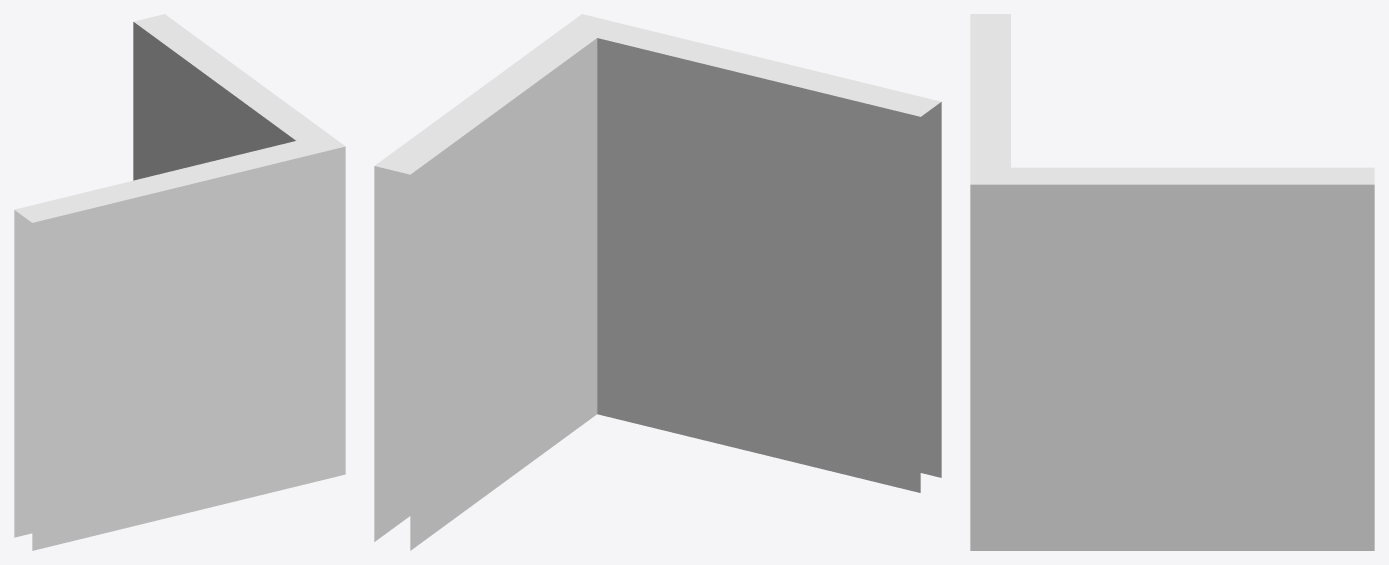
The model's file is E_Wall_L_Shape_Elevator.fbx.
The picture shows the model from 3 angles, left to right: view 1: azimuth 30°, elevation 25°; view 2: azimuth 150°, elevation 25°; view 3: azimuth 270°, elevation 25°; orthographic projection. The views are drawn at different scales.
Visible parts, largest first — view 1: E_Wall_L_Shape; view 2: E_Wall_L_Shape; view 3: E_Wall_L_Shape.
Boxes of the visible parts, x1,y1,x2,y2 form: E_Wall_L_Shape: (14, 14, 345, 550); E_Wall_L_Shape: (374, 14, 941, 550); E_Wall_L_Shape: (970, 14, 1374, 550).
Bounding box in the file's own units: 200 × 200 × 200.
